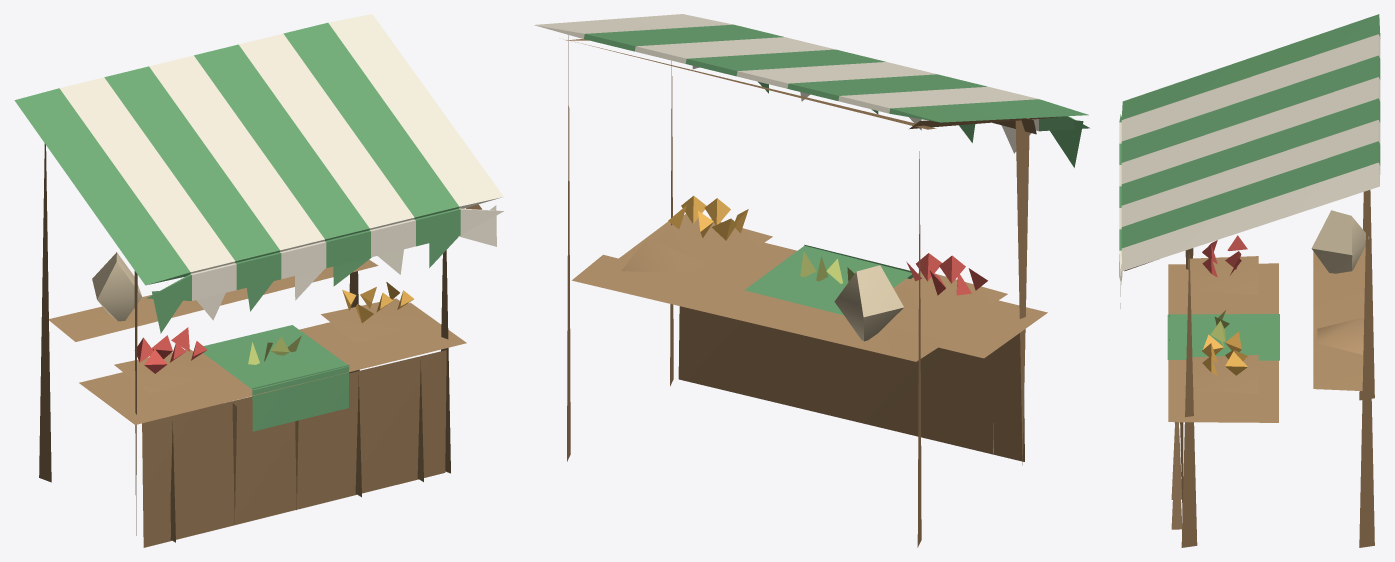
The model's file is generated.market_stall_green.gltf.
The picture shows the model from 3 angles, left to right: view 1: azimuth 30°, elevation 25°; view 2: azimuth 150°, elevation 25°; view 3: azimuth 270°, elevation 25°; orthographic projection. The views are drawn at different scales.
Visible parts, largest first — view 1: market_stall_green; view 2: market_stall_green; view 3: market_stall_green.
Boxes of the visible parts, x1=… form: market_stall_green: x1=14, y1=14, x2=503, y2=547; market_stall_green: x1=534, y1=14, x2=1089, y2=547; market_stall_green: x1=1119, y1=14, x2=1380, y2=547.
Size of the model in its own units: 2.6 by 2.65 by 1.68.
